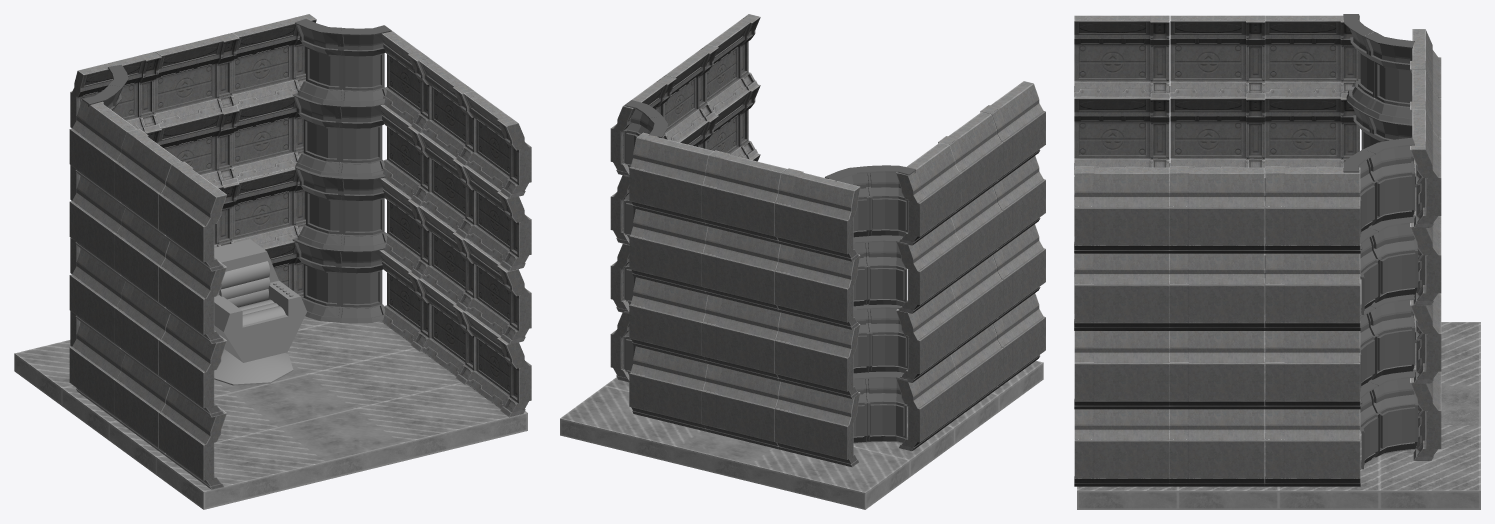
The model's file is final boss room.FBX.
3 renders of one model, left to right at view 1: azimuth 30°, elevation 25°; view 2: azimuth 150°, elevation 25°; view 3: azimuth 270°, elevation 25°, orthographic. The views are drawn at different scales.
Visible parts, largest first — view 1: pCube340, pCube341, pCube342, pPlane828, pCube3, pPlane827, pPlane824, pPlane841, pPlane821, pPlane851, pPlane835, pPlane848 (+36 smaller); view 2: pCube343, pPlane829, pPlane828, pPlane827, pPlane823, pPlane820, pPlane826, pPlane822, pPlane821, pPlane819, pPlane825, pPlane818 (+33 smaller); view 3: pCube343, pPlane851, pPlane852, pPlane853, pPlane841, pPlane840, pPlane846, pPlane847, pPlane845, pPlane842, pPlane844, pPlane848 (+28 smaller).
Part boxes in pixels (x1,y1,x2,y2): pCube340: [156, 382, 527, 509]; pCube341: [109, 348, 461, 475]; pCube342: [61, 321, 413, 440]; pPlane828: [154, 33, 239, 126]; pCube3: [214, 239, 306, 362]; pPlane827: [232, 14, 316, 107]; pPlane824: [232, 95, 303, 181]; pPlane841: [159, 161, 226, 271]; pPlane821: [232, 167, 305, 247]; pPlane851: [463, 91, 531, 198]; pPlane835: [159, 314, 226, 417]; pPlane848: [463, 165, 531, 271]; pCube343: [560, 386, 909, 509]; pPlane829: [775, 168, 860, 261]; pPlane828: [702, 150, 786, 243]; pPlane827: [629, 132, 714, 225]; pPlane823: [775, 313, 860, 398]; pPlane820: [775, 382, 860, 467]; pPlane826: [775, 244, 860, 329]; pPlane822: [702, 295, 781, 380]; pPlane821: [629, 277, 708, 363]; pPlane819: [702, 364, 781, 449]; pPlane825: [702, 226, 781, 311]; pPlane818: [629, 346, 708, 431]; pCube343: [1379, 322, 1480, 509]; pPlane851: [1074, 166, 1169, 253]; pPlane852: [1169, 166, 1264, 253]; pPlane853: [1265, 166, 1360, 253]; pPlane841: [1074, 15, 1169, 98]; pPlane840: [1170, 15, 1265, 97]; pPlane846: [1169, 331, 1264, 409]; pPlane847: [1265, 331, 1360, 409]; pPlane845: [1074, 331, 1169, 409]; pPlane842: [1074, 409, 1169, 486]; pPlane844: [1265, 409, 1360, 486]; pPlane848: [1074, 253, 1169, 330].
Size of the model in its own units: 416 by 378 by 419.
